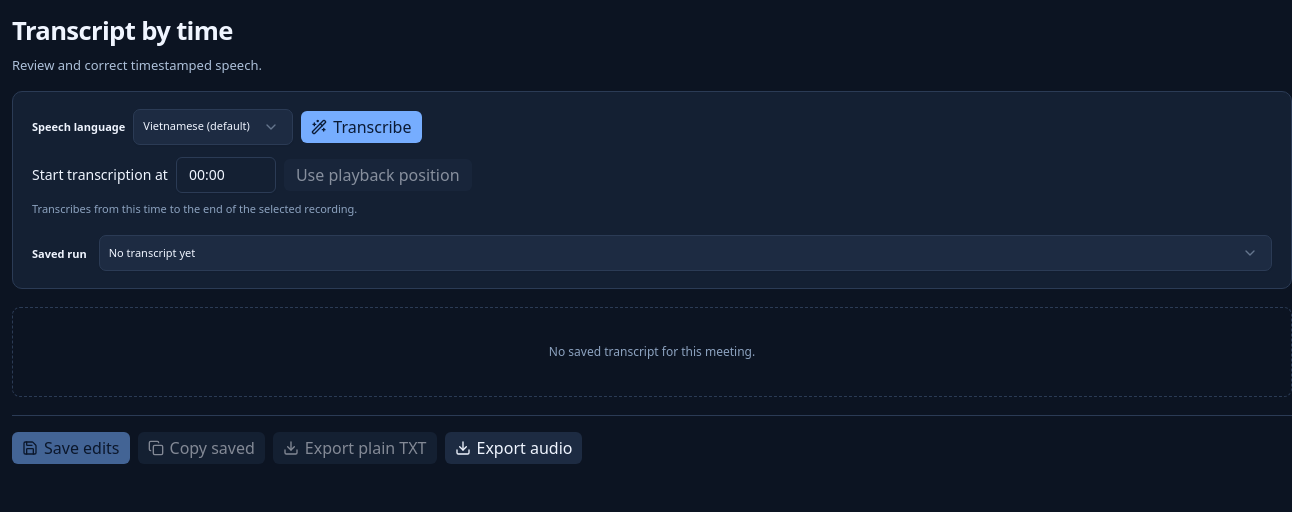
Test: explains when another model task prevents transcription
Click the button "Transcribe" at (361, 126), box [301,110,422,142]
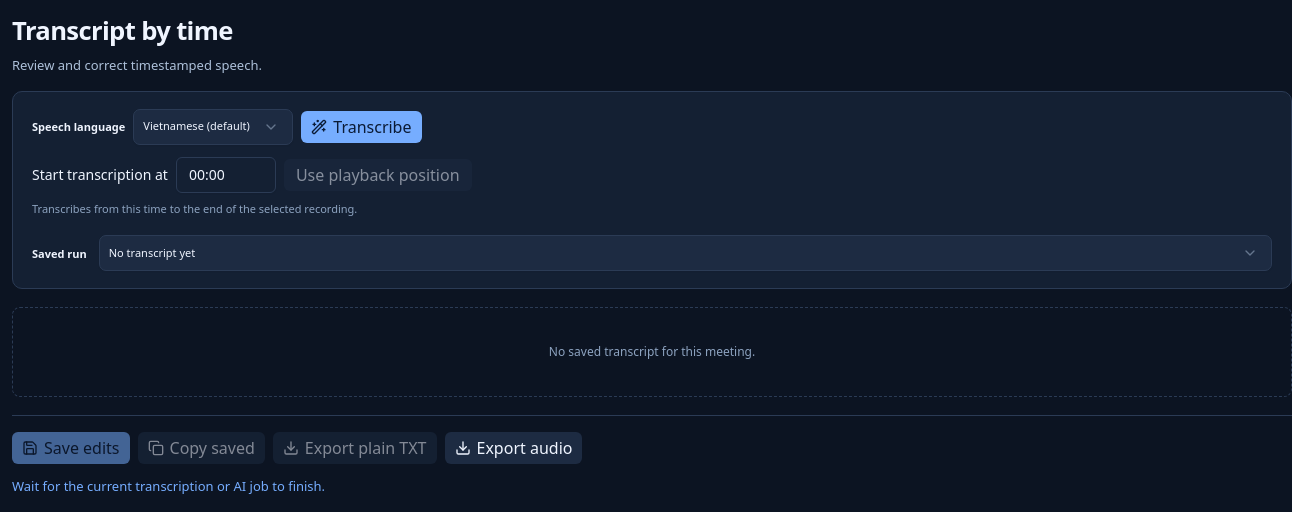
Now the text "Wait for the current transcription or AI job to finish." is shown, box [12,477,325,495]
